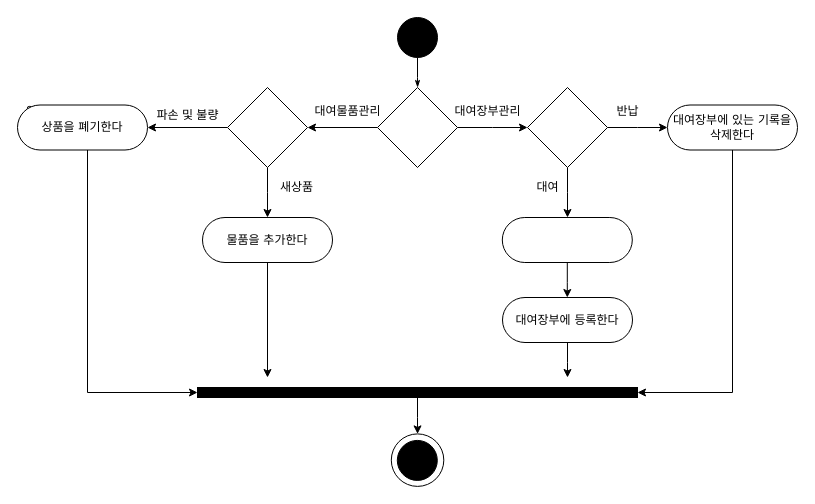
Some shapes in this 815 by 504 pixel diagram are drawn without their labels. The shapes that lost their labels are listed below. From the top down, each one's box as (x1, y1, x2, y2) in pixels, then its label:
(226, 86, 308, 168): 상품상태
(501, 216, 632, 262): 고객의 정보를 입력한다
